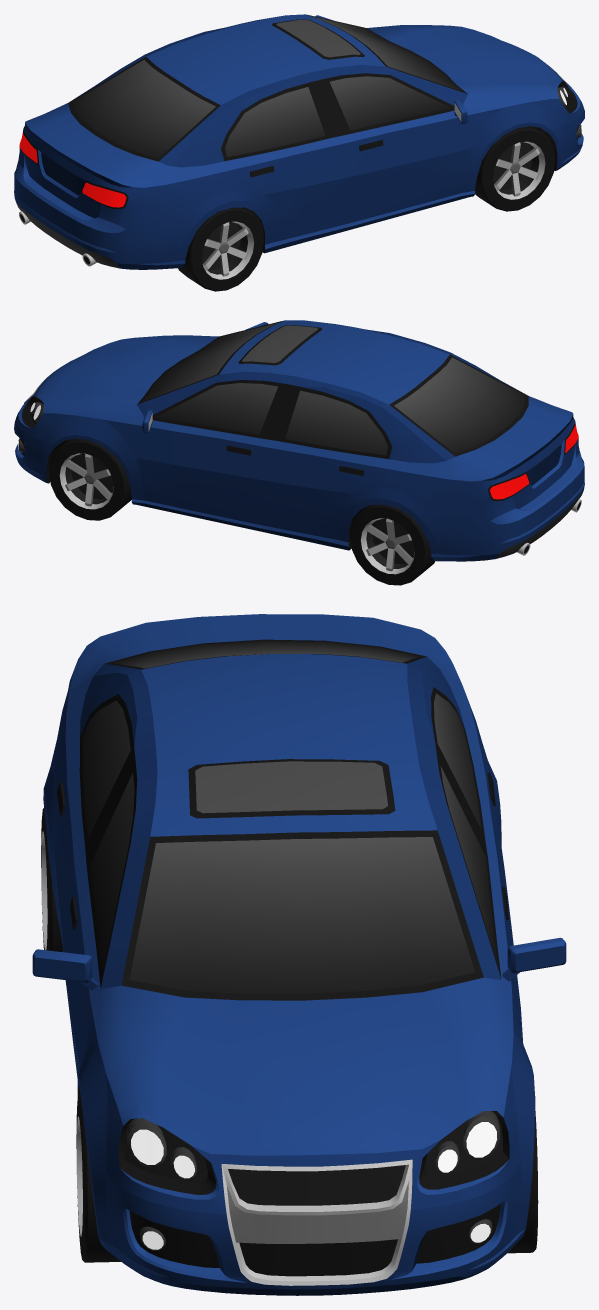
Rendered from Car_175.glb.
The picture shows the model from 3 angles, top to bottom: view 1: azimuth 30°, elevation 25°; view 2: azimuth 150°, elevation 25°; view 3: azimuth 270°, elevation 25°; orthographic projection. The views are drawn at different scales.
Parts seen in each view (by area): view 1: Car_175, wheel_0_Car_175_Wheel_1R, wheel_2_Car_175_Wheel_3R; view 2: Car_175, wheel_1_Car_175_Wheel_2L, wheel_3_Car_175_Wheel_4L; view 3: Car_175, wheel_0_Car_175_Wheel_1R, wheel_2_Car_175_Wheel_3R, wheel_1_Car_175_Wheel_2L.
Part boxes in pixels (x1,y1,x2,y2): Car_175: (14, 14, 584, 269); wheel_0_Car_175_Wheel_1R: (475, 126, 555, 211); wheel_2_Car_175_Wheel_3R: (178, 207, 264, 291); Car_175: (14, 320, 584, 561); wheel_1_Car_175_Wheel_2L: (49, 438, 131, 520); wheel_3_Car_175_Wheel_4L: (350, 504, 435, 585); Car_175: (32, 614, 566, 1295); wheel_0_Car_175_Wheel_1R: (76, 1092, 120, 1262); wheel_2_Car_175_Wheel_3R: (41, 808, 63, 951); wheel_1_Car_175_Wheel_2L: (507, 1111, 538, 1253).
Size of the model in its own units: 4.54 by 1.45 by 2.06.
Materials: 2 (2 with a texture image).
